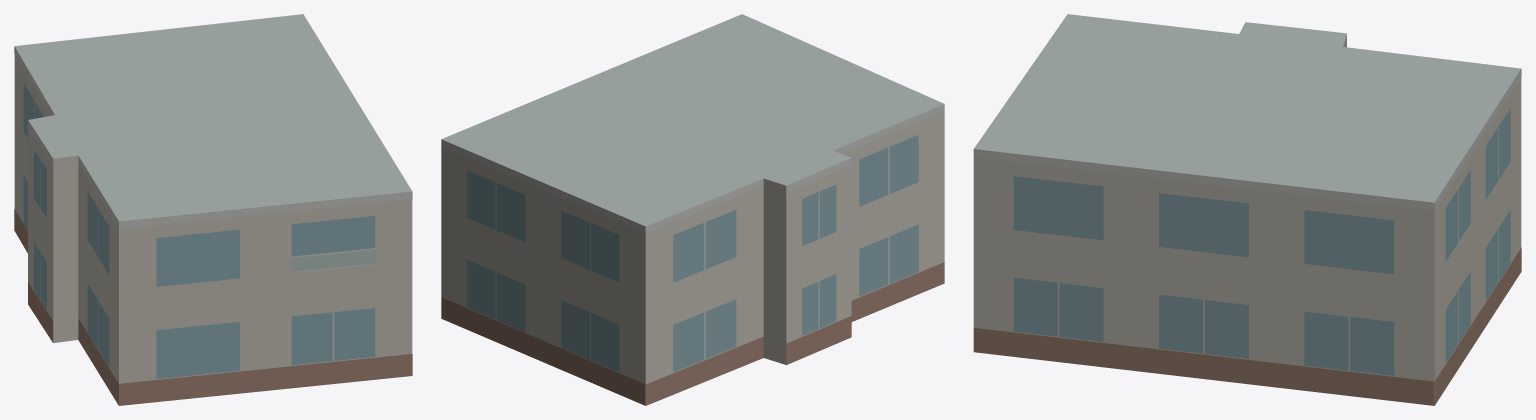
The model's file is survey-upis-32691907.glb.
3 views of the same model, side by side, from view 1: azimuth 30°, elevation 25°; view 2: azimuth 150°, elevation 25°; view 3: azimuth 270°, elevation 25° (orthographic). The views are drawn at different scales.
Visible parts, largest first — view 1: survey-upis-32691907.tmp; view 2: survey-upis-32691907.tmp; view 3: survey-upis-32691907.tmp.
Boxes of the visible parts, bbox=[...] form: survey-upis-32691907.tmp: bbox=[14, 14, 412, 405]; survey-upis-32691907.tmp: bbox=[441, 14, 944, 405]; survey-upis-32691907.tmp: bbox=[973, 14, 1521, 405].
Bounding box in the file's own units: 12.16 × 6.1 × 14.91.
